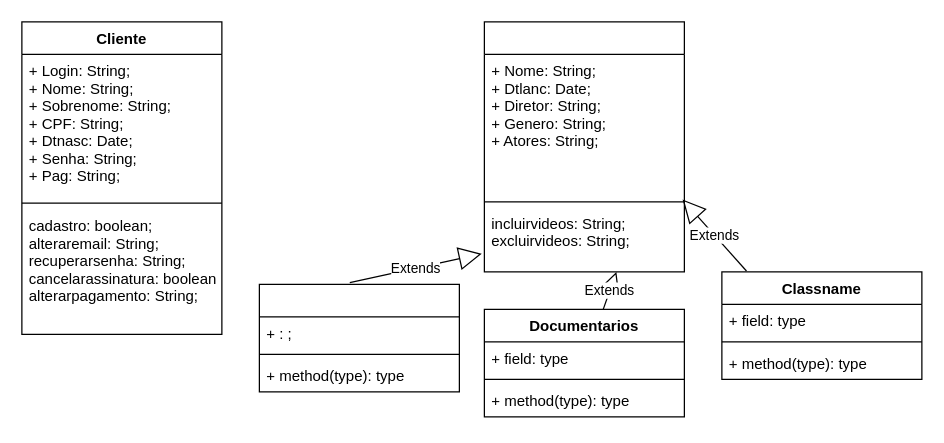
Some shapes in this 944 by 443 pixel diagram are drawn without their labels. The shapes that lost their labels are listed below. From the top down, each one's box as (x1, y1, x2, y2) in pixels, then its label:
(483, 21, 684, 272): Vídeos
(258, 283, 459, 392): Filmes
